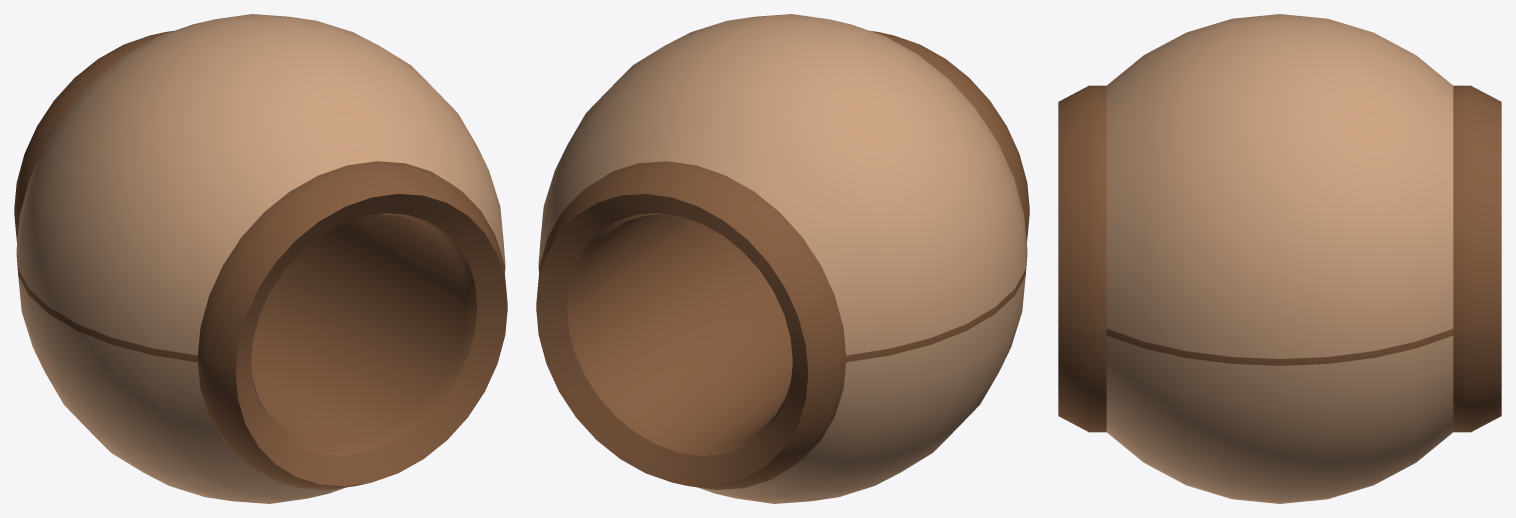
File: quaternius-ultimate-space-pack-house-open-transformed.glb
The picture shows the model from 3 angles, left to right: view 1: azimuth 30°, elevation 25°; view 2: azimuth 150°, elevation 25°; view 3: azimuth 270°, elevation 25°; orthographic projection.
Parts seen in each view (by area): view 1: House_Open; view 2: House_Open; view 3: House_Open.
Boxes of the visible parts, x1,y1,x2,y2 form: House_Open: (14,14,507,503); House_Open: (536,14,1029,503); House_Open: (1058,14,1501,503).
Bounding box in the file's own units: 3.99 × 4 × 3.61.
Materials: 1 (1 with a texture image).
